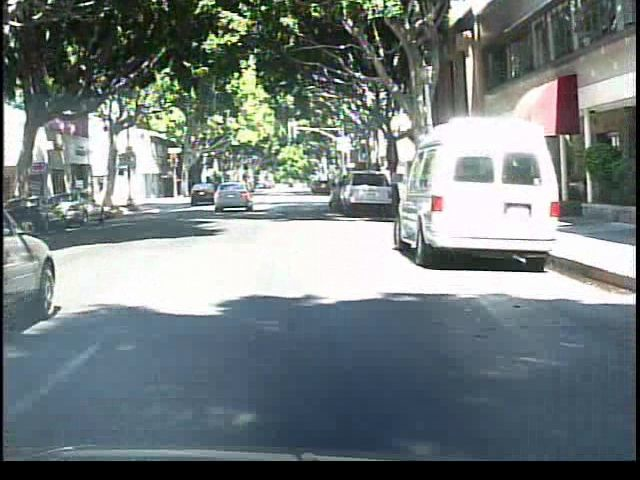person: (229, 171, 251, 205)
